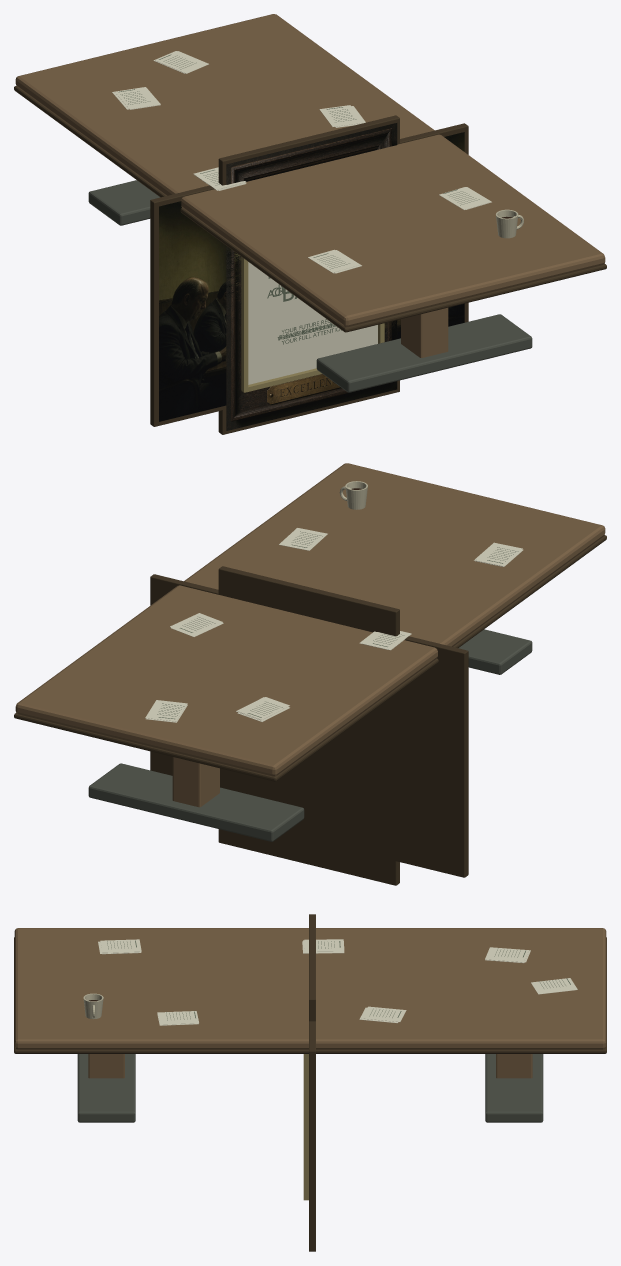
Rendered from meeting-kit.glb.
3 renders of one model, top to bottom at view 1: azimuth 30°, elevation 25°; view 2: azimuth 150°, elevation 25°; view 3: azimuth 270°, elevation 25°, orthographic. The views are drawn at different scales.
Visible parts, largest first — view 1: Walnut_top, Boardroom_photograph, Framed_excellence, Pedestal_foot, Poster_board.005, Meeting_minutes, Boardroom_back, Table_edge, Portrait_back.001, Poster_frame.008, Typed_line, Coffee_cup (+1 smaller); view 2: Walnut_top, Boardroom_back, Portrait_back.001, Pedestal_foot, Meeting_minutes, Table_edge, Typed_line, Coffee_cup; view 3: Walnut_top, Pedestal_foot, Meeting_minutes, Table_edge, Boardroom_back, Poster_frame.009, Portrait_back.001, Coffee_cup.
Boxes of the visible parts, x1,y1,x2,y2 form: Walnut_top: [15, 14, 605, 357]; Boardroom_photograph: [159, 132, 464, 421]; Framed_excellence: [226, 123, 397, 430]; Pedestal_foot: [88, 180, 532, 392]; Poster_board.005: [248, 262, 377, 384]; Meeting_minutes: [112, 51, 491, 273]; Boardroom_back: [150, 123, 468, 426]; Table_edge: [14, 86, 606, 332]; Portrait_back.001: [218, 115, 399, 434]; Poster_frame.008: [241, 257, 248, 391]; Typed_line: [118, 54, 479, 269]; Coffee_cup: [496, 209, 523, 238]; Walnut_top: [15, 463, 605, 807]; Boardroom_back: [150, 574, 468, 877]; Portrait_back.001: [218, 566, 399, 885]; Pedestal_foot: [88, 629, 532, 841]; Meeting_minutes: [145, 528, 523, 722]; Table_edge: [14, 535, 606, 781]; Typed_line: [157, 531, 518, 719]; Coffee_cup: [339, 481, 367, 509]; Walnut_top: [14, 928, 606, 1078]; Pedestal_foot: [77, 1054, 543, 1122]; Meeting_minutes: [98, 939, 577, 1025]; Table_edge: [14, 937, 606, 1053]; Boardroom_back: [309, 914, 315, 1251]; Poster_frame.009: [303, 1054, 308, 1199]; Portrait_back.001: [309, 922, 315, 1021]; Coffee_cup: [83, 993, 103, 1019].
Size of the model in its own units: 2.47 by 2.06 by 4.51.
10 materials, 2 textured.
